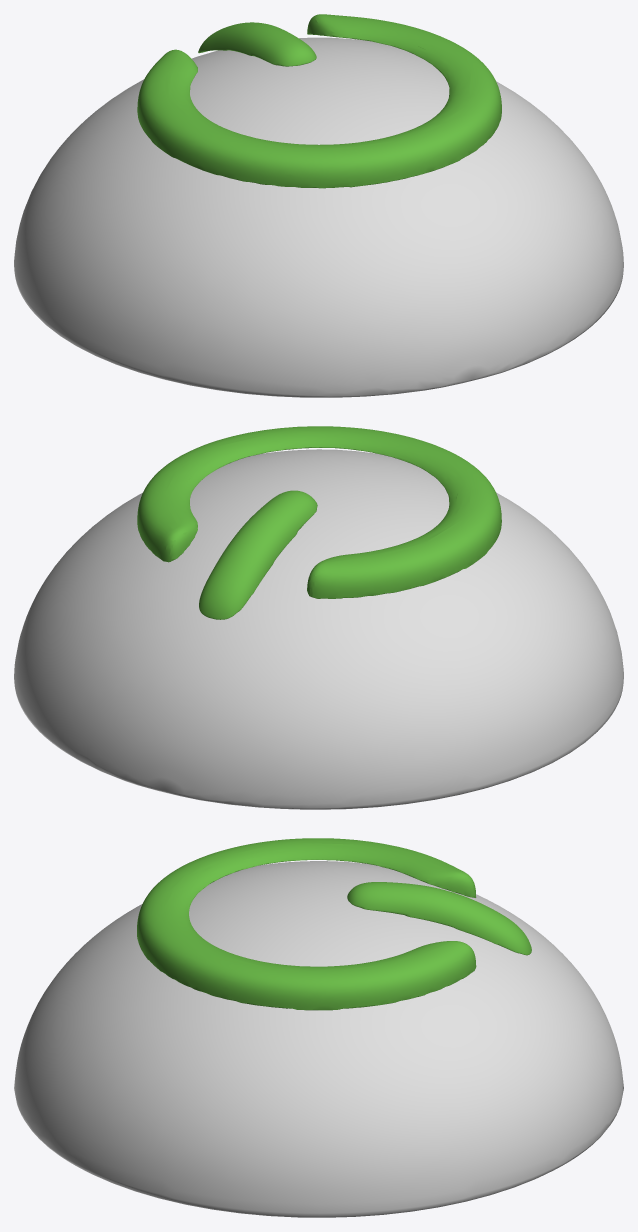
3 renders of one model, top to bottom at view 1: azimuth 30°, elevation 25°; view 2: azimuth 150°, elevation 25°; view 3: azimuth 270°, elevation 25°, orthographic.
Visible parts, largest first — view 1: Sphere.011_Sphere.007, Circle.003_Circle.002, Cube.054_Cube.013; view 2: Sphere.011_Sphere.007, Circle.003_Circle.002, Cube.054_Cube.013; view 3: Sphere.011_Sphere.007, Circle.003_Circle.002, Cube.054_Cube.013.
Part boxes in pixels (x1,y1,x2,y2): Sphere.011_Sphere.007: [14, 37, 623, 397]; Circle.003_Circle.002: [137, 14, 501, 188]; Cube.054_Cube.013: [198, 22, 316, 66]; Sphere.011_Sphere.007: [14, 449, 623, 809]; Circle.003_Circle.002: [137, 426, 501, 598]; Cube.054_Cube.013: [199, 490, 317, 619]; Sphere.011_Sphere.007: [14, 861, 623, 1217]; Circle.003_Circle.002: [137, 838, 476, 1010]; Cube.054_Cube.013: [347, 882, 531, 955].
Bounding box in the file's own units: 0.3986 × 0.15 × 0.4021.
